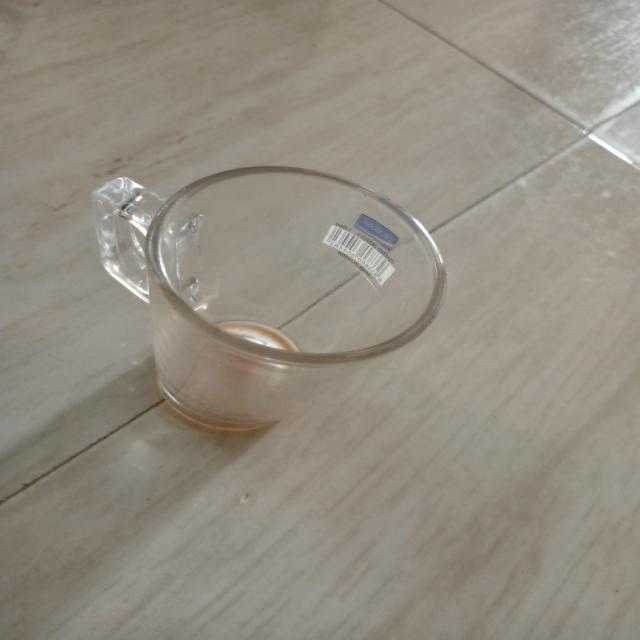glass-VX4N: (84, 162, 448, 441)
